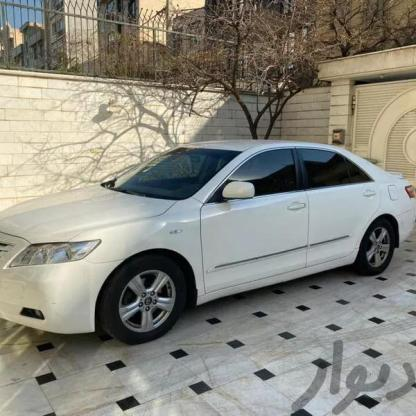Car: (0, 134, 416, 340)
